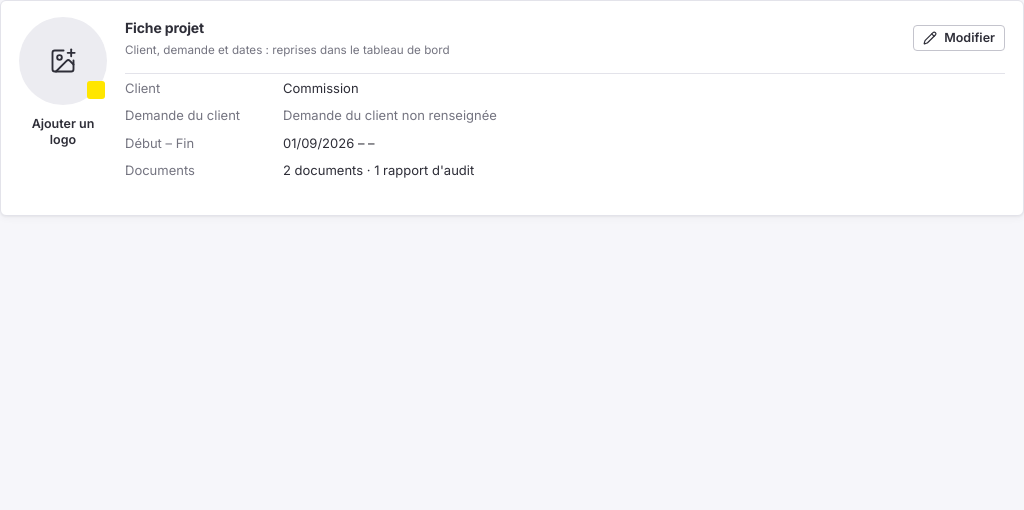
it: fiche projet › affiche la fiche puis enregistre la demande du client
Expected: the text "Commission" is shown, [283,80,359,96]
Expected: the text "Demande du client non renseignée" is shown, [283,107,497,123]
Click the button with test id "profile-edit" at (959, 38), box [913,25,1005,51]
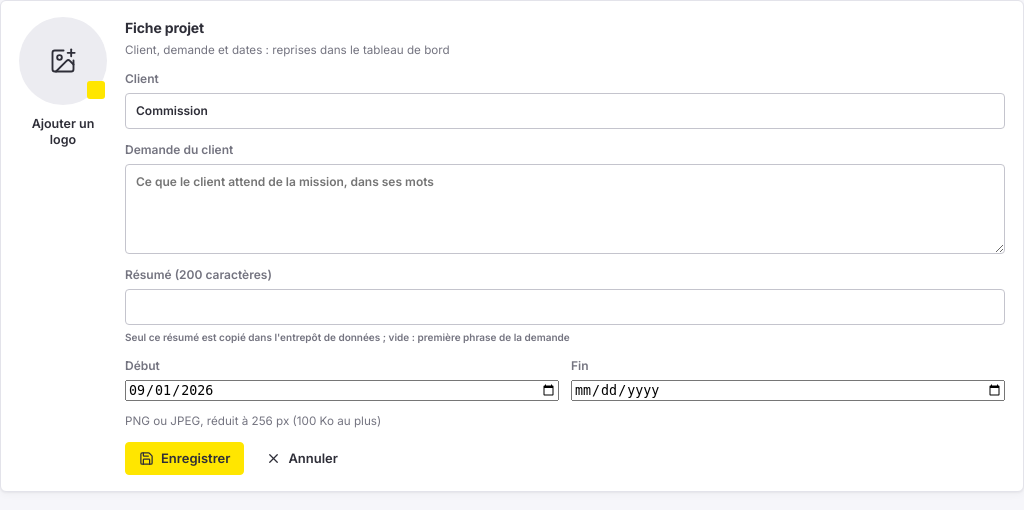
Type "Mettre en œuvre" into the text box labelled "Demande du client" at (565, 208), box [125,164,1005,254]
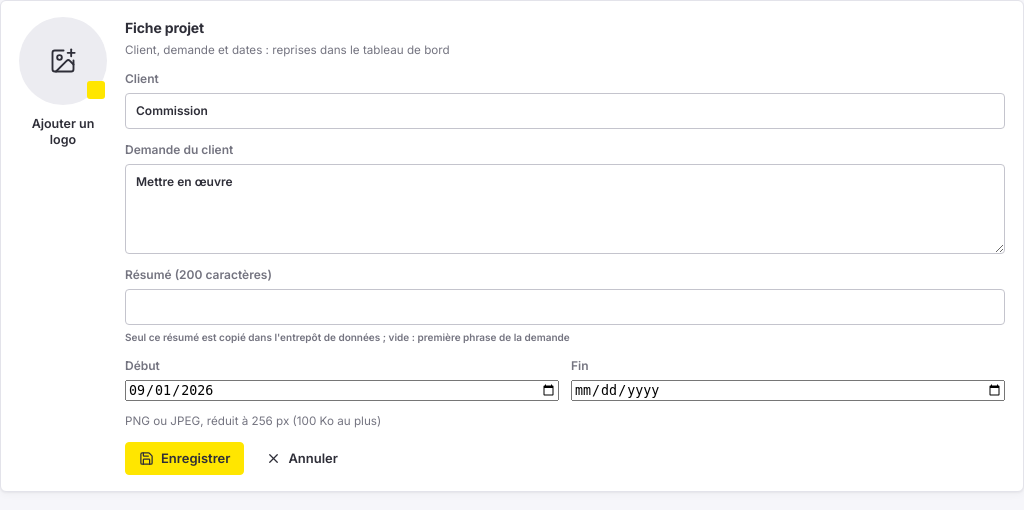
Click the button "Enregistrer" at (185, 459), box [125,442,244,475]
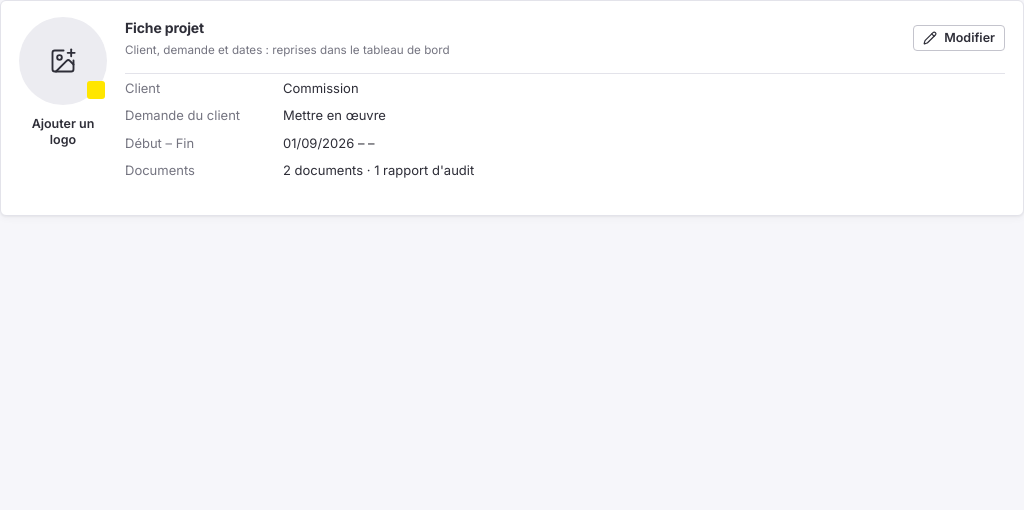
Expected: the text "Mettre en œuvre" is shown, [283,107,386,123]
